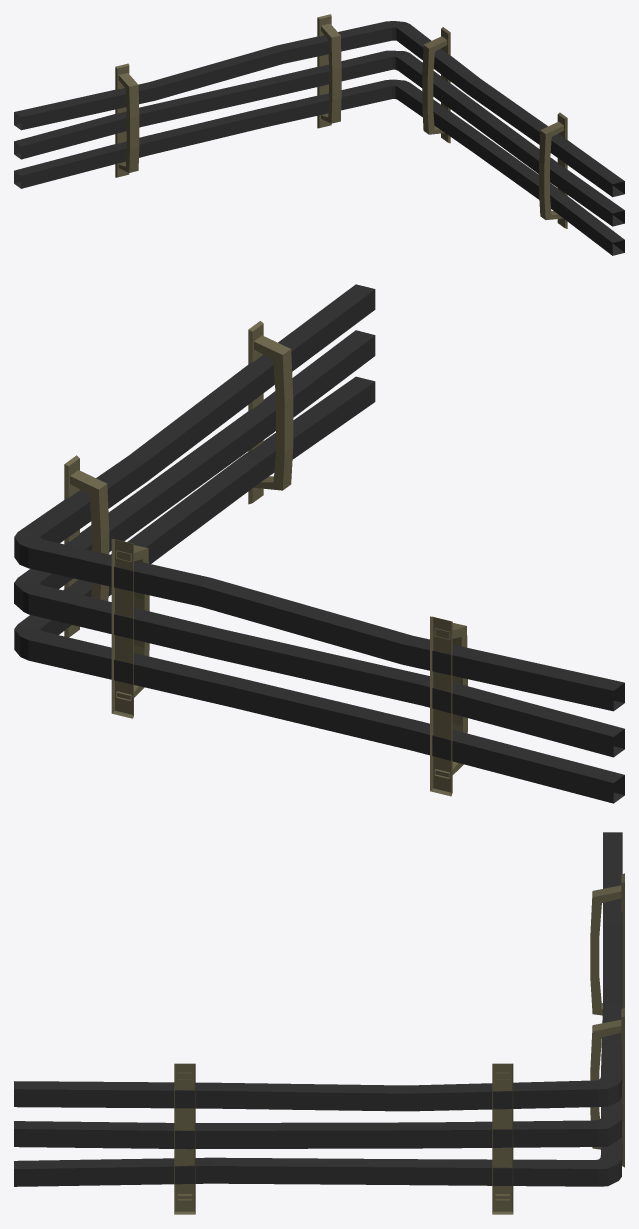
Rendered from SW_ENV_Wires3_Crnr_LongInnerStation.fbx.
The picture shows the model from 3 angles, top to bottom: view 1: azimuth 30°, elevation 25°; view 2: azimuth 150°, elevation 25°; view 3: azimuth 270°, elevation 25°; orthographic projection. The views are drawn at different scales.
Parts seen in each view (by area): view 1: SW_ENV_Wires3_Crnr_LongInnerStation; view 2: SW_ENV_Wires3_Crnr_LongInnerStation; view 3: SW_ENV_Wires3_Crnr_LongInnerStation.
Part boxes in pixels (bbox=[...]): SW_ENV_Wires3_Crnr_LongInnerStation: bbox=[14, 14, 624, 255]; SW_ENV_Wires3_Crnr_LongInnerStation: bbox=[14, 284, 624, 803]; SW_ENV_Wires3_Crnr_LongInnerStation: bbox=[14, 832, 624, 1214].
Bounding box in the file's own units: 125 × 34.12 × 125.
